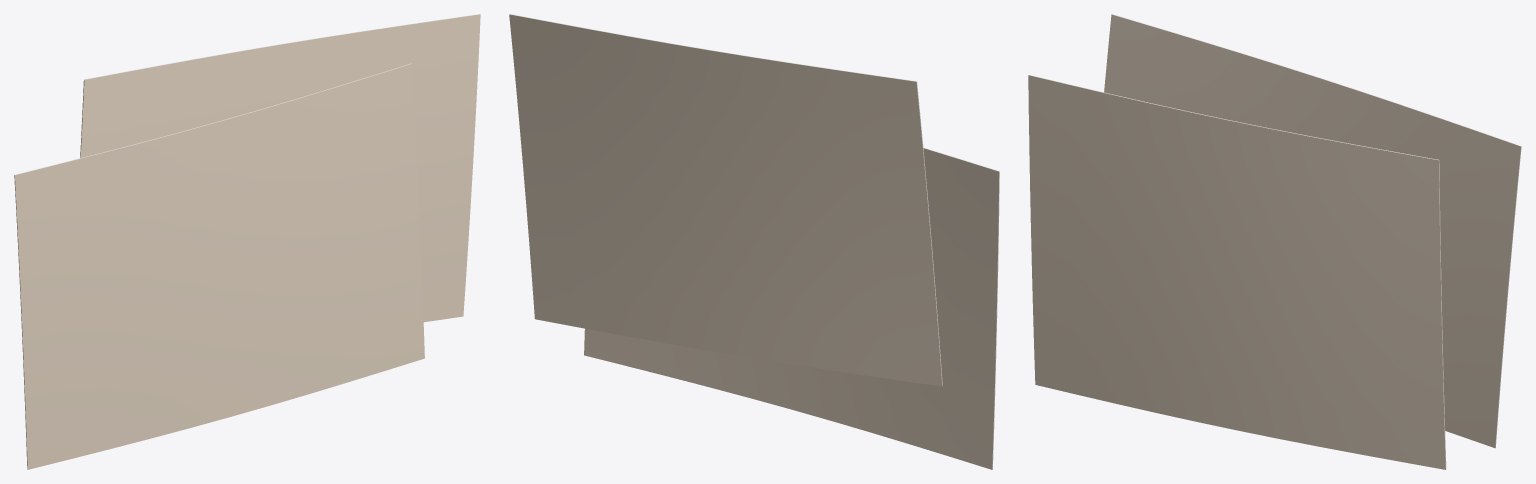
The model's file is postcard.glb.
3 views of the same model, side by side, from view 1: azimuth 30°, elevation 25°; view 2: azimuth 150°, elevation 25°; view 3: azimuth 330°, elevation 25° (orthographic). The views are drawn at different scales.
Visible parts, largest first — view 1: post_a, post_b; view 2: post_b, post_a; view 3: post_a, post_b.
Boxes of the visible parts, box(x1,y1,x2,y2) form: post_a: box(14, 63, 424, 469); post_b: box(80, 14, 480, 322); post_b: box(509, 14, 942, 386); post_a: box(584, 147, 999, 469); post_a: box(1028, 75, 1446, 469); post_b: box(1104, 14, 1521, 448).
Size of the model in its own units: 0.1755 by 0.131 by 0.0104.
